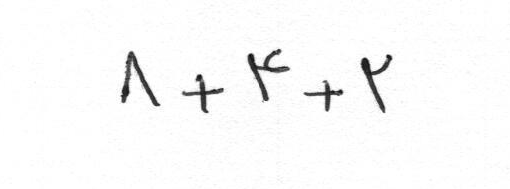character: (247, 48, 292, 104), (121, 50, 161, 109), (360, 54, 396, 117), (182, 73, 225, 113), (303, 79, 346, 114)
